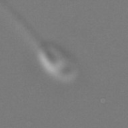normal: (1, 1, 46, 46)
